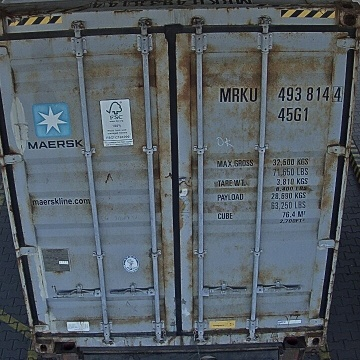serial_id: (220, 86, 343, 101)
